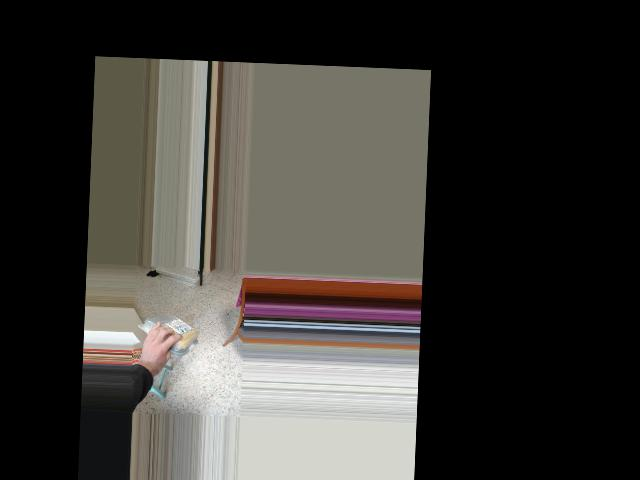cheese: (141, 316, 204, 347)
